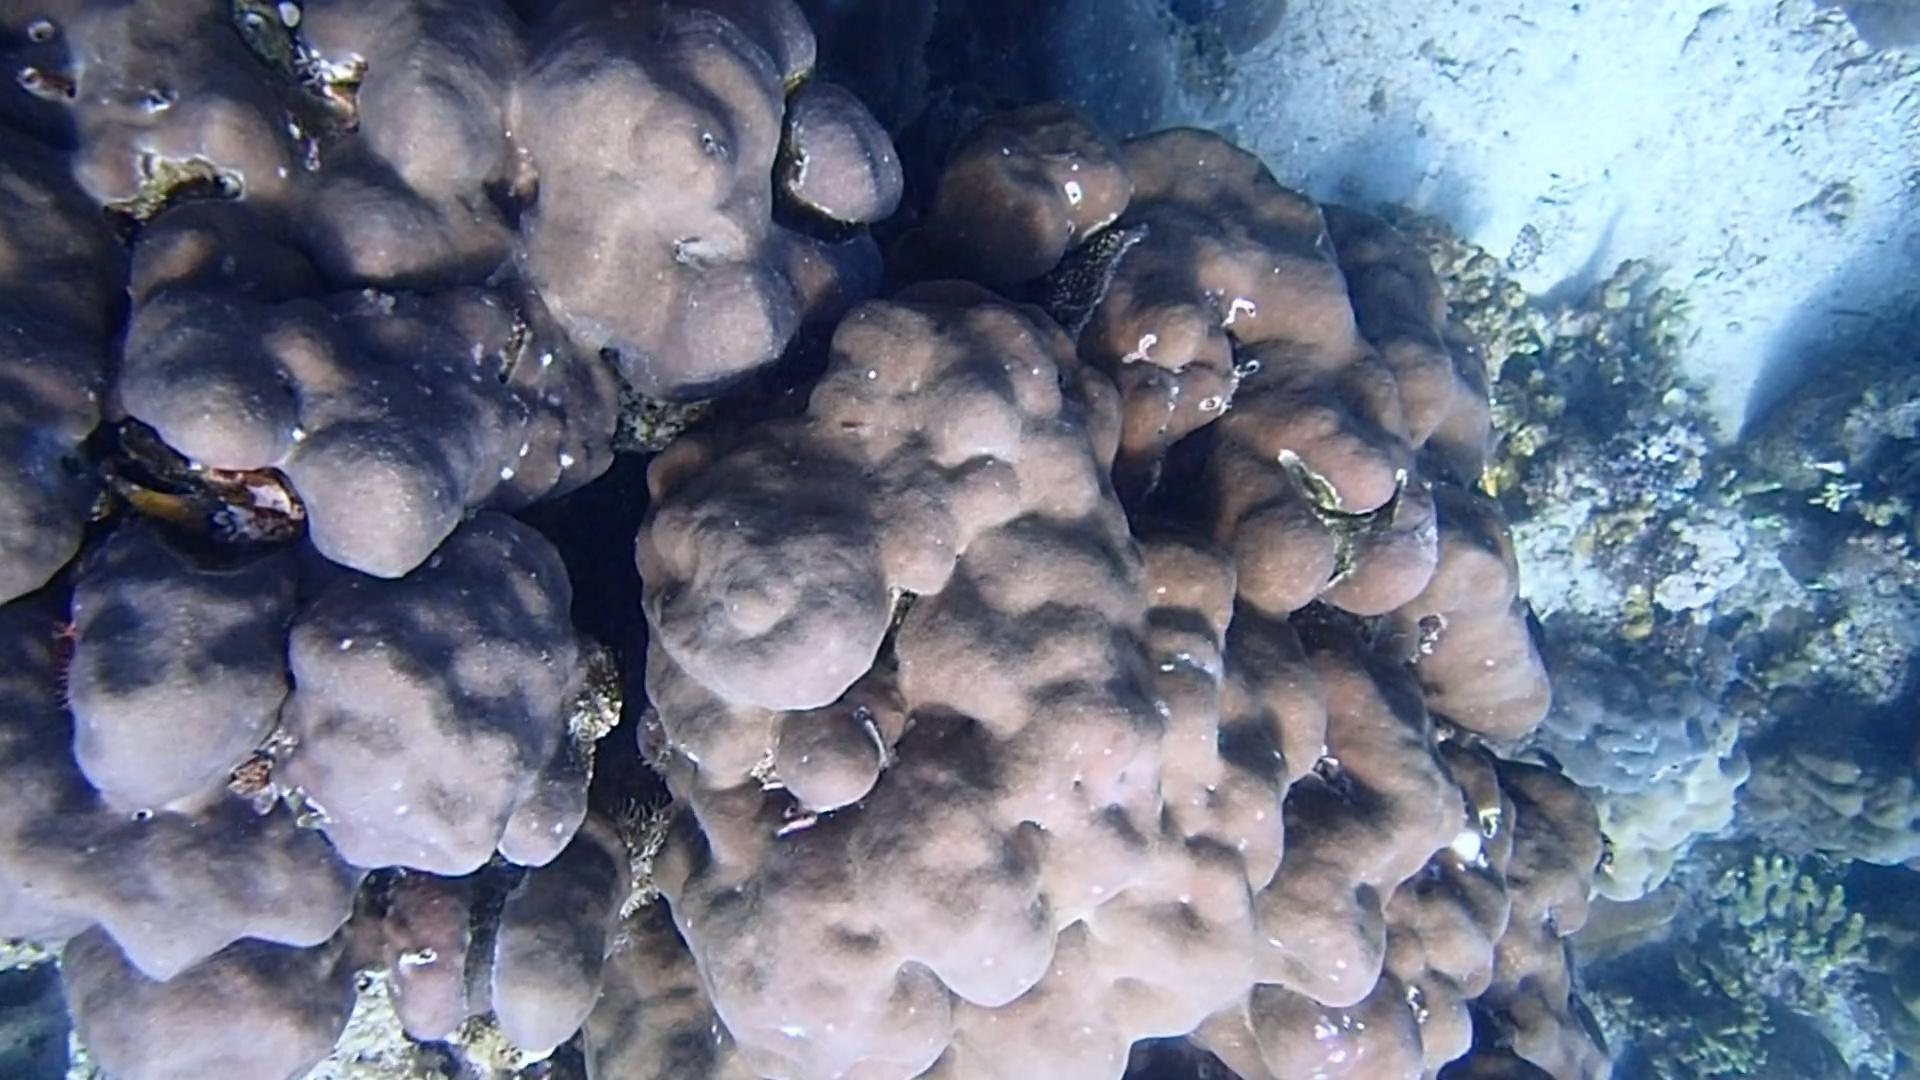Dark Fish: (1523, 738, 1576, 779)
